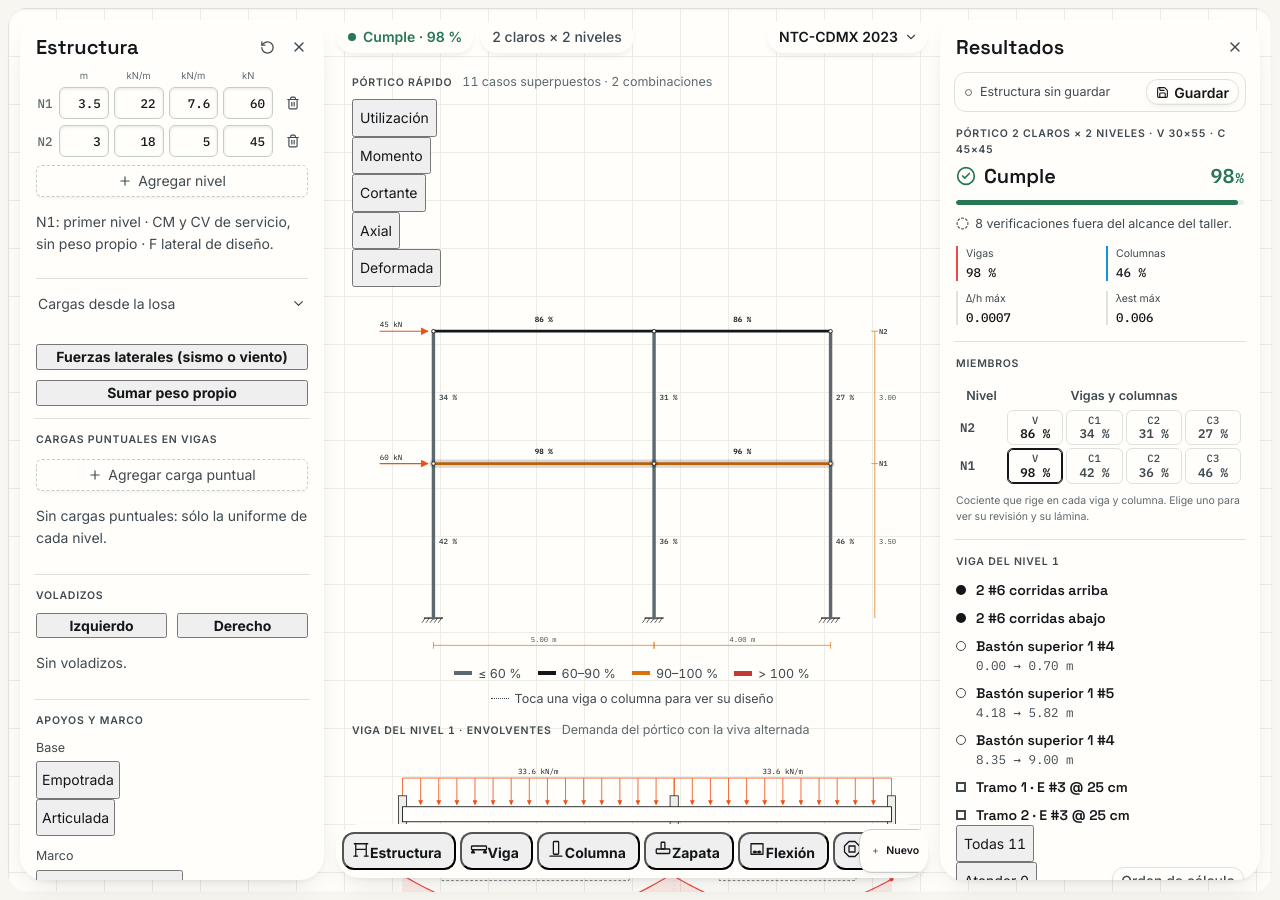
Test case: mesa Estructura con el pórtico rápido › agrega una carga puntual y un voladizo: se guardan en el borrador y se dibujan
(page scrolled)
Expected: the picture named "Utilización de el pórtico" is shown, [352,287,912,658]
Click the button "Agregar carga puntual" at (172, 475), box [36,459,308,491]
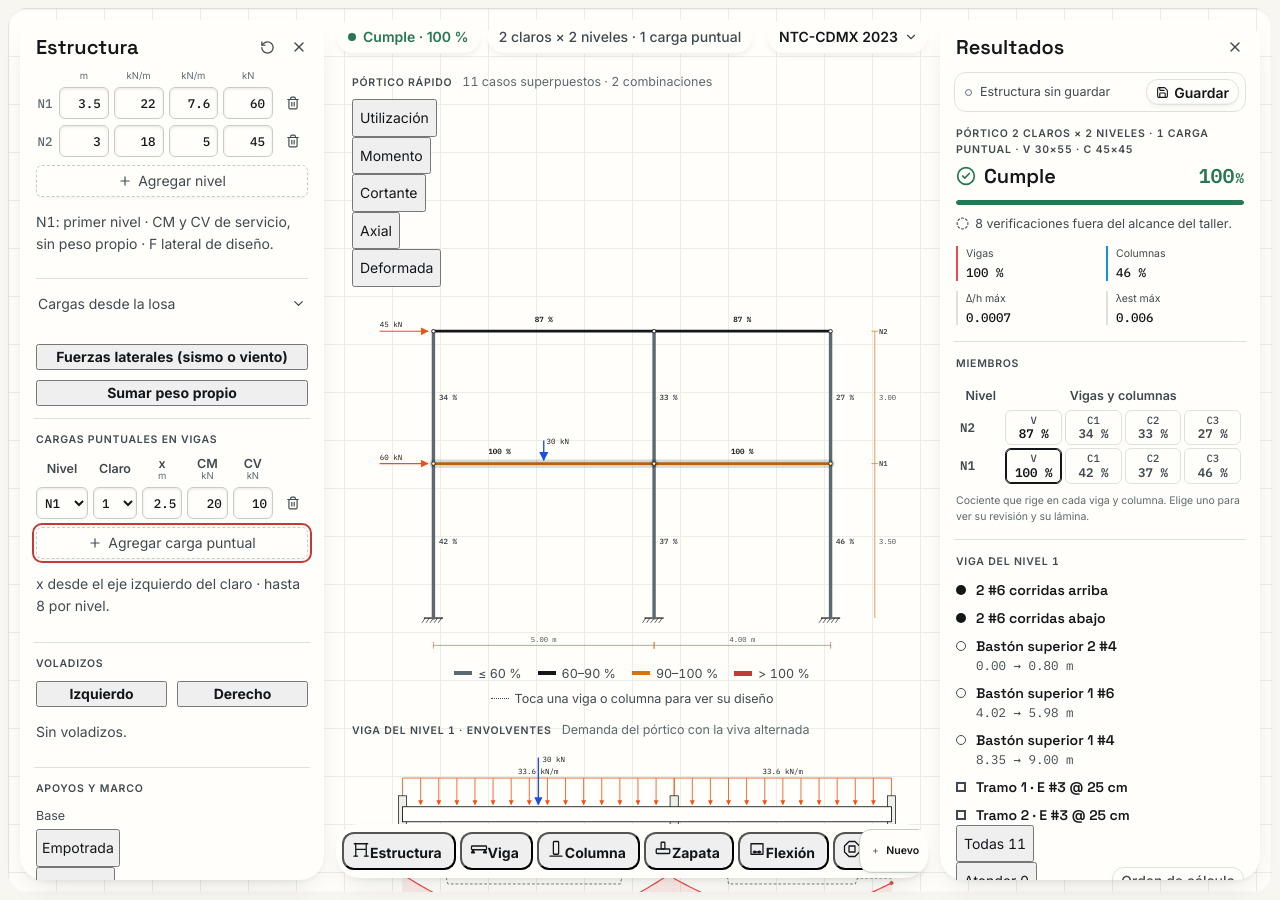
Select "N2" in the dropdown named "Carga puntual 1 · nivel" at (62, 503), box [36,487,88,519]
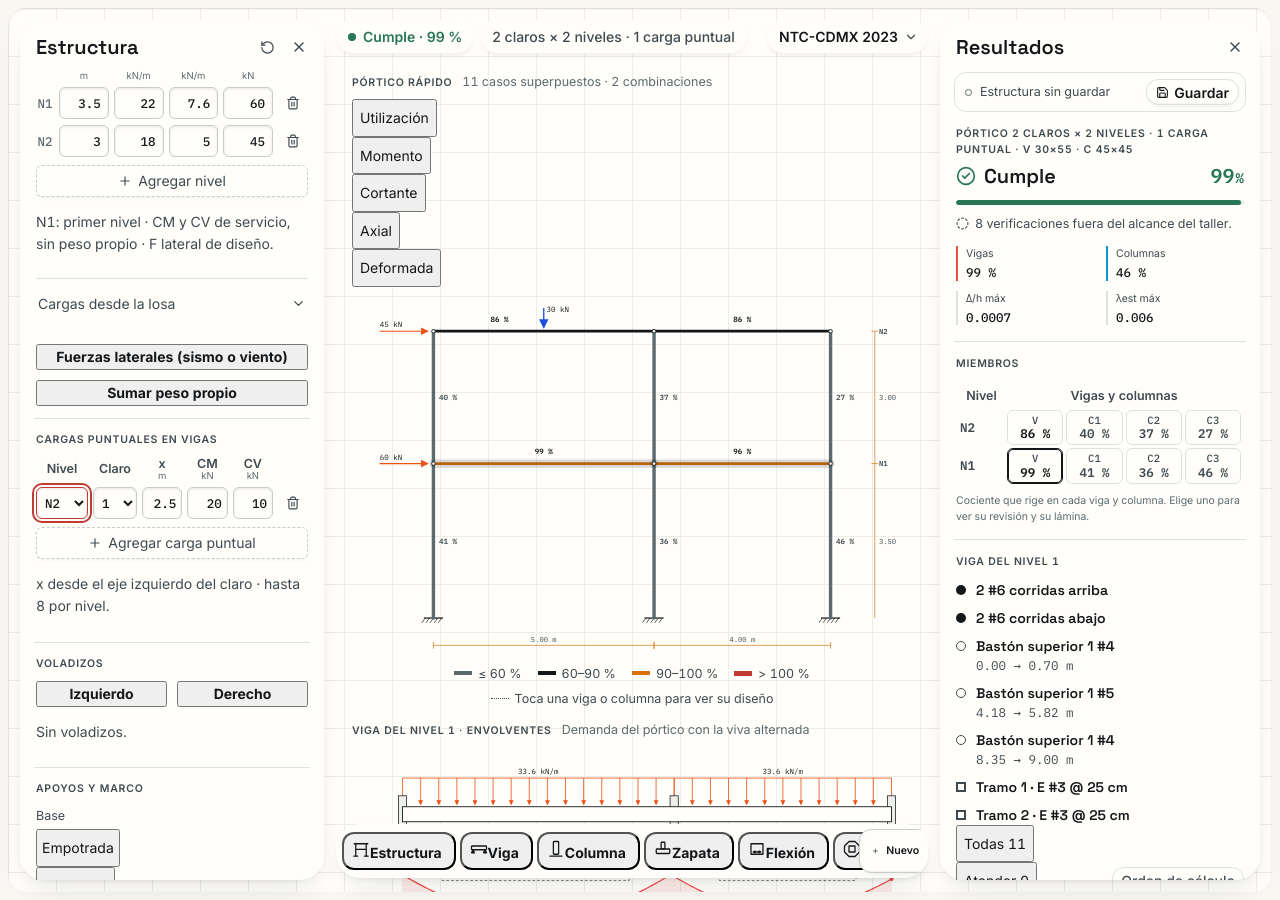
Click the switch labelled "Derecho" at (242, 694), box [177,681,308,706]
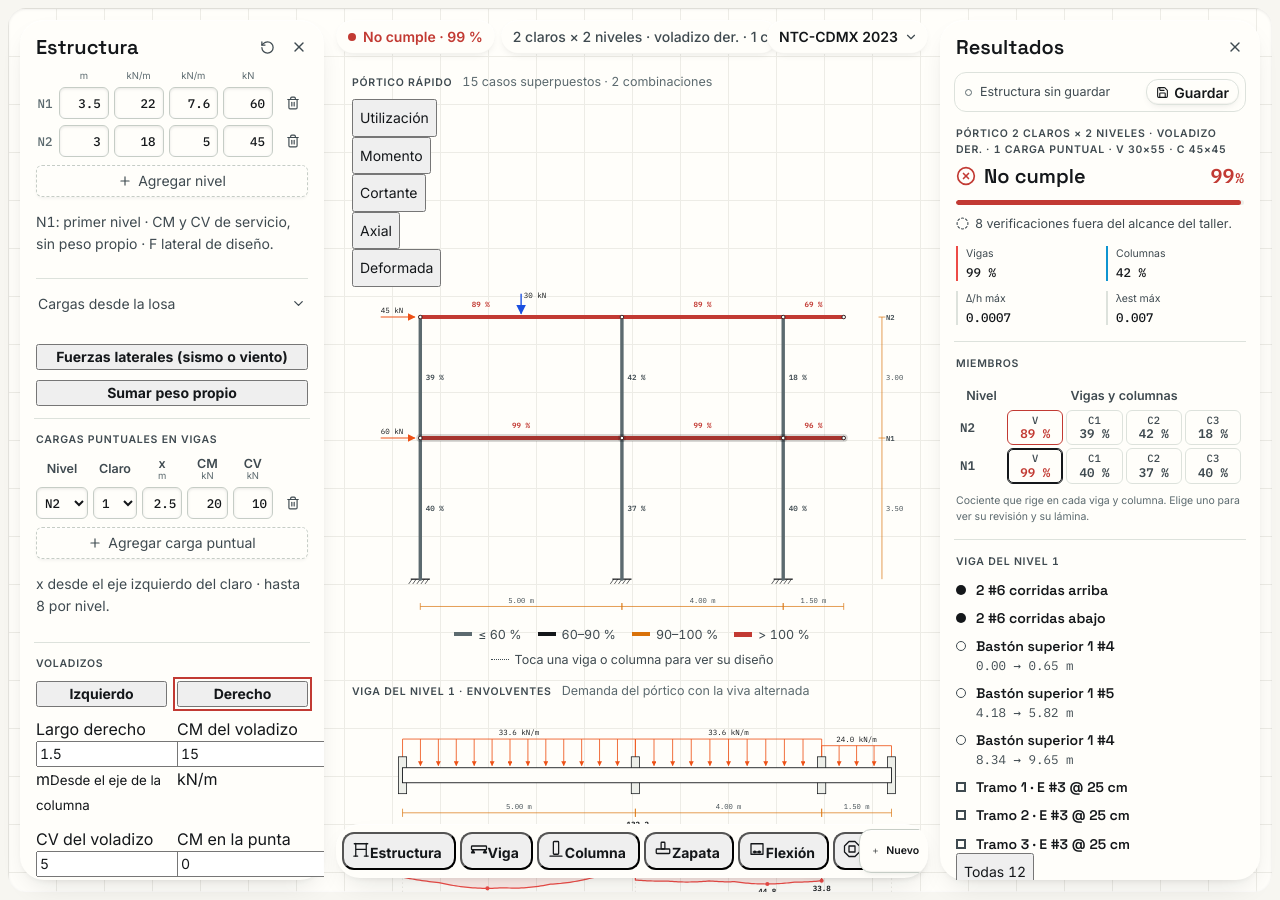
Expected: the field labelled "Largo derecho" is shown, [36,741,254,767]
